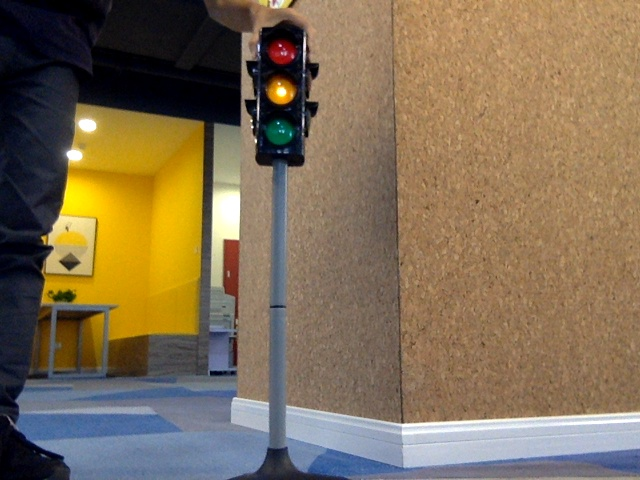yellow: (256, 36, 298, 149)
